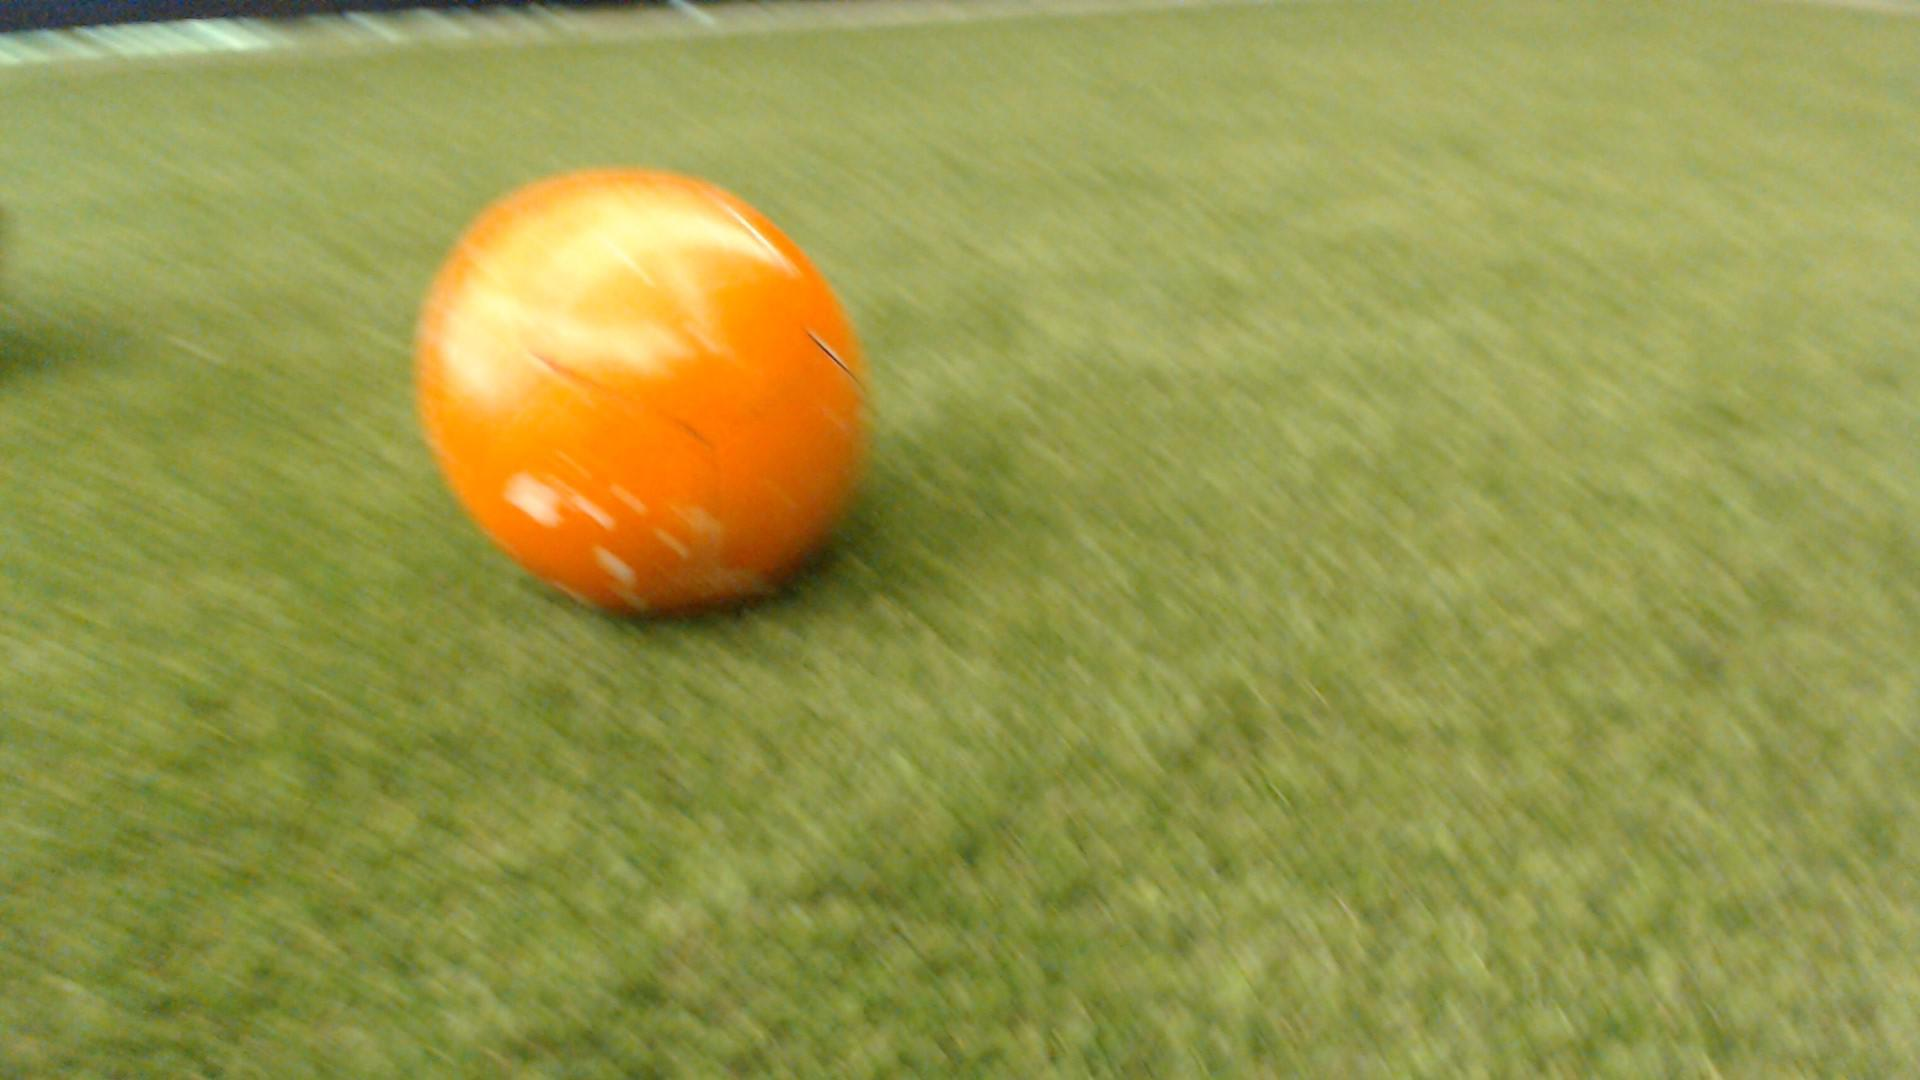bola: (411, 152, 907, 637)
